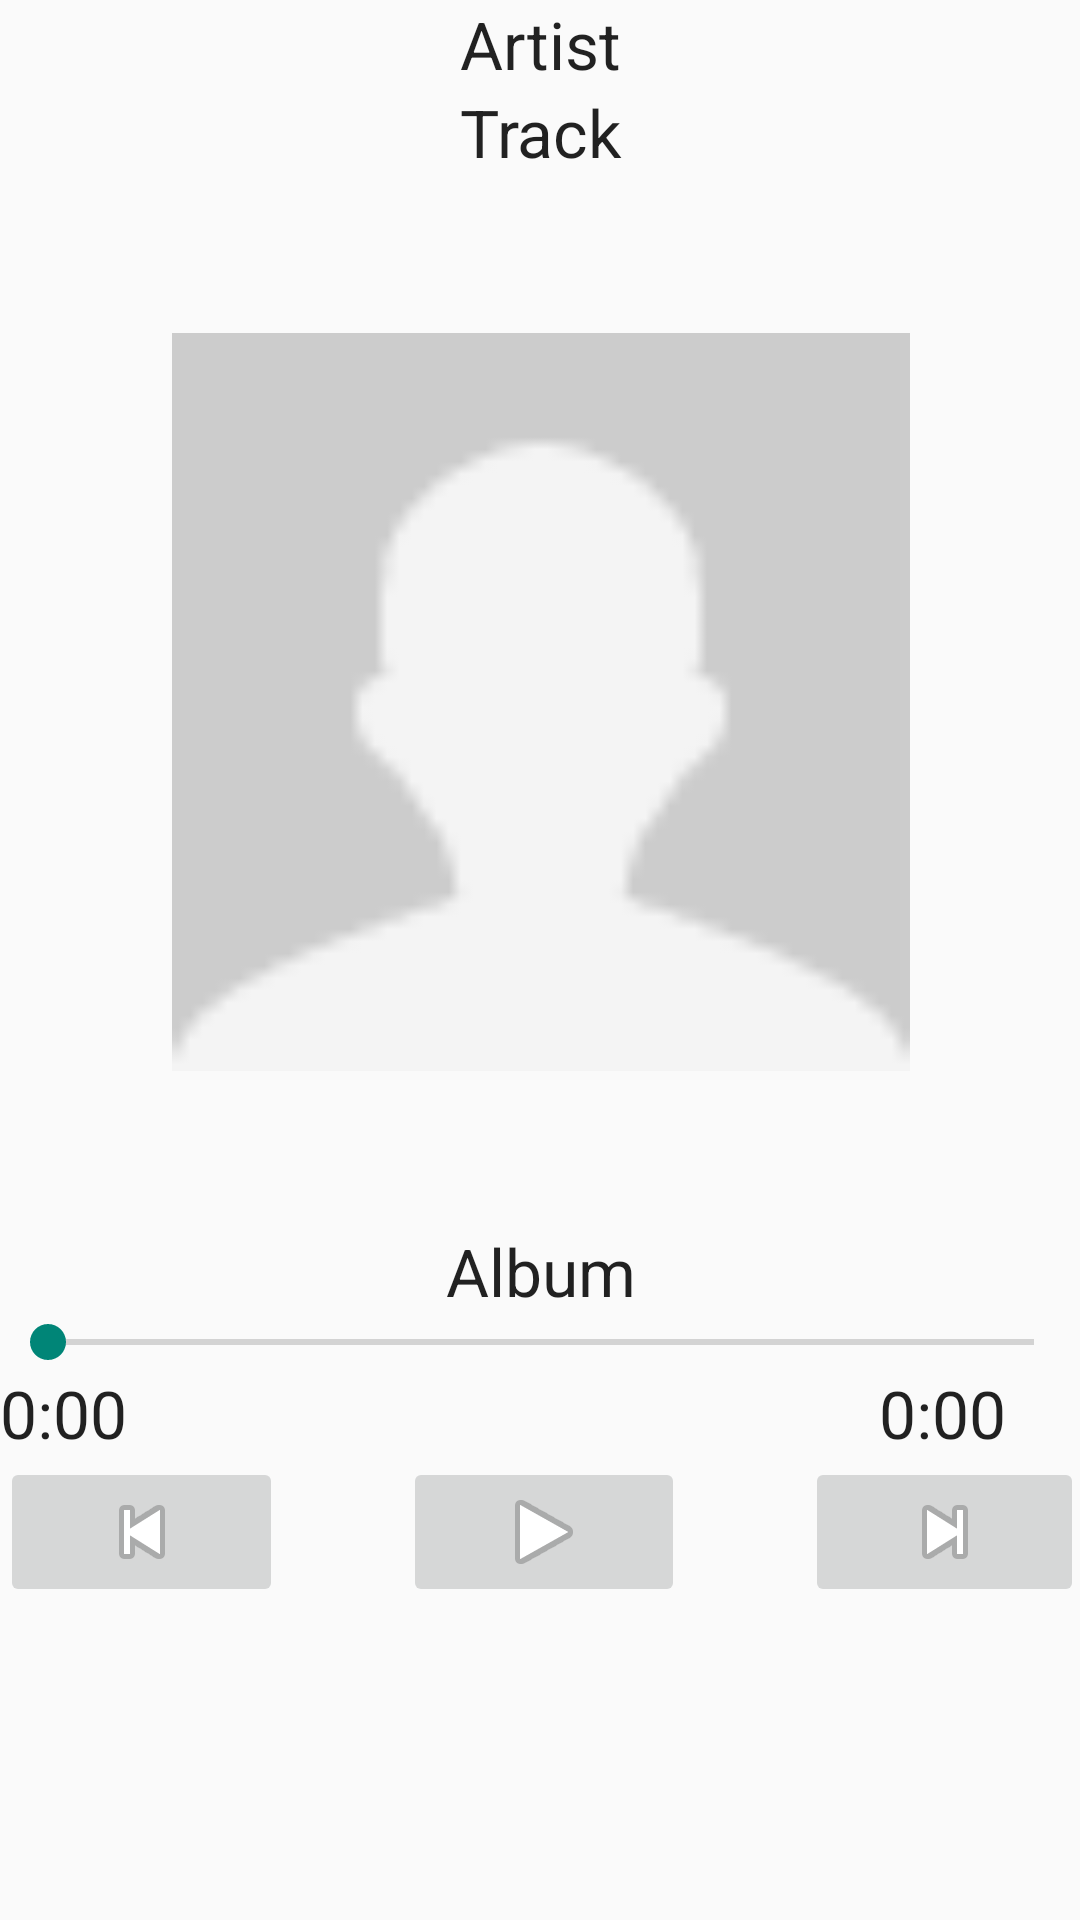

Point at icon controls on the screen. Image size 1080px×1920px, points as point (x, y).
next: point (944, 1532)
play: point (544, 1532)
previous: point (141, 1532)
